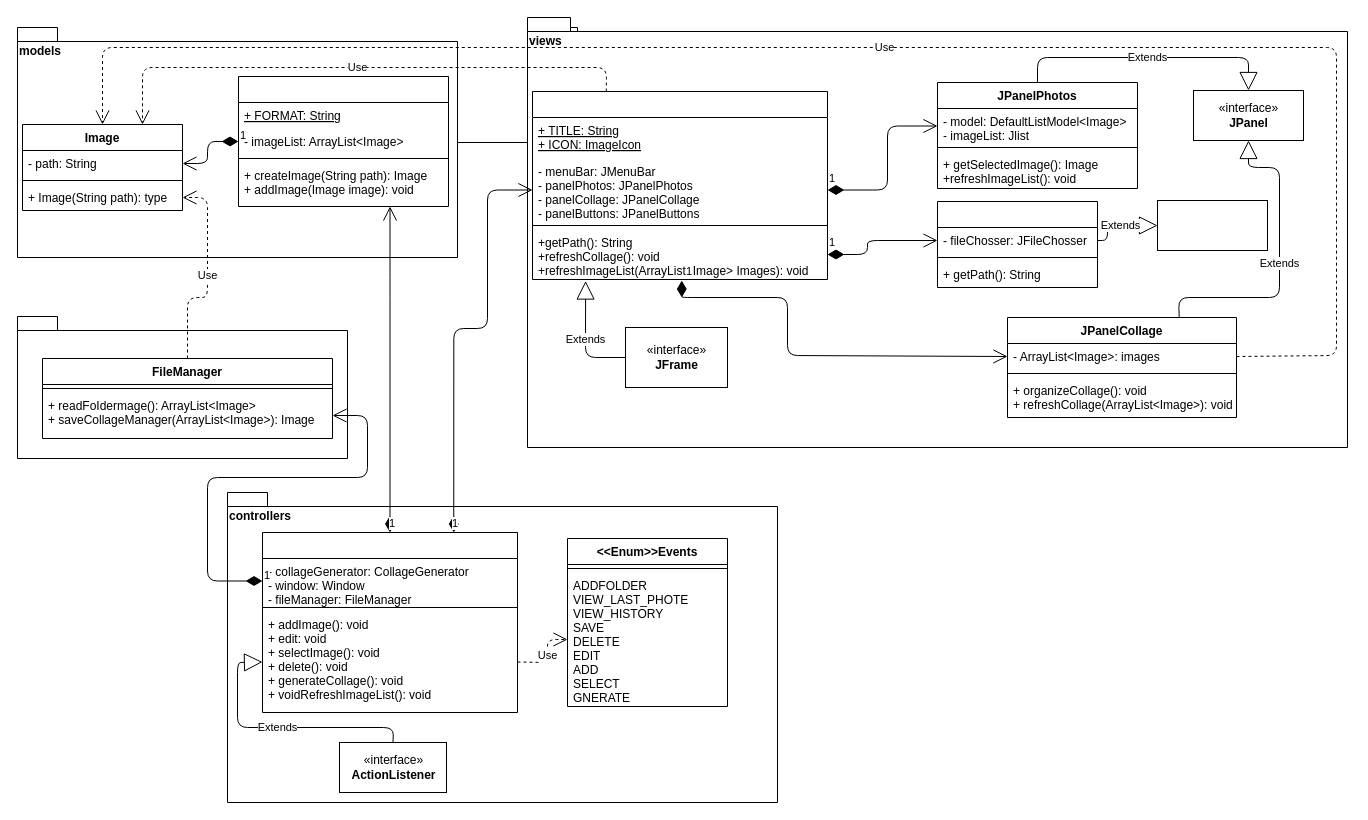
Some shapes in this 1368 by 820 pixel diagram are drawn without their labels. The shapes that lost their labels are listed below. From the top down, each one's box as (x1, y1, x2, y2) in pixels, then its label:
(238, 76, 448, 206): CollageGenerator
(532, 90, 828, 280): Window
(936, 200, 1098, 288): JMenuBarImage
(1156, 200, 1268, 250): «interface» JMenuBar
(16, 316, 348, 458): persistence
(262, 532, 518, 712): Controller
